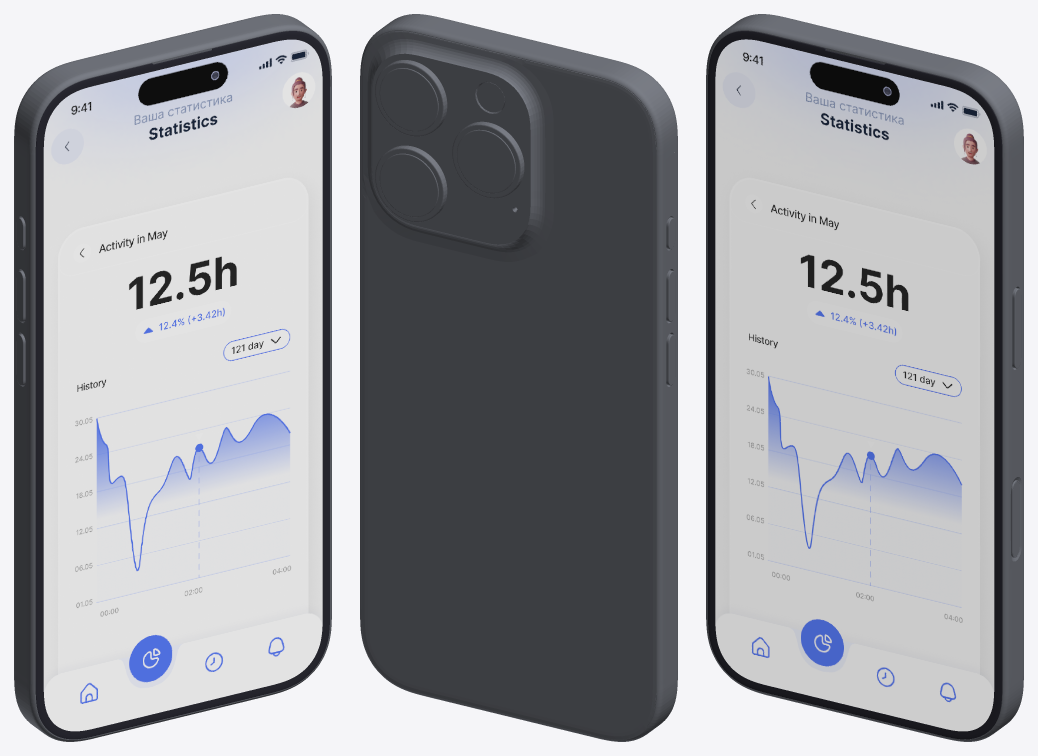
The model's file is iphone-statistics-v3.glb.
3 views of the same model, side by side, from view 1: azimuth 30°, elevation 25°; view 2: azimuth 150°, elevation 25°; view 3: azimuth 330°, elevation 25° (orthographic).
Parts seen in each view (by area): view 1: display, edge-a, edge-display, island-fill; view 2: back, edge-a, back-camera, back-camera-lente-2-a, back-camera-lente-1-b, back-camera-lente-3-a, back-camera-lente-3-d, back-camera-lente-1-a, back-camera-lente-2-d, back-camera-flash-a; view 3: display, edge-a, edge-display, island-fill, button-4.
Boxes of the visible parts, bbox=[...] form: display: bbox=[43, 39, 322, 731]; edge-a: bbox=[14, 14, 331, 741]; edge-display: bbox=[35, 31, 329, 739]; island-fill: bbox=[138, 64, 227, 107]; back: bbox=[362, 31, 656, 739]; edge-a: bbox=[360, 14, 677, 741]; back-camera: bbox=[372, 53, 530, 244]; back-camera-lente-2-a: bbox=[458, 132, 513, 191]; back-camera-lente-1-b: bbox=[381, 70, 436, 129]; back-camera-lente-3-a: bbox=[381, 156, 436, 215]; back-camera-lente-3-d: bbox=[375, 145, 447, 222]; back-camera-lente-1-a: bbox=[375, 60, 447, 136]; back-camera-lente-2-d: bbox=[452, 121, 524, 198]; back-camera-flash-a: bbox=[477, 82, 504, 112]; display: bbox=[715, 39, 994, 731]; edge-a: bbox=[706, 14, 1023, 741]; edge-display: bbox=[708, 31, 1002, 739]; island-fill: bbox=[810, 64, 899, 107]; button-4: bbox=[1012, 288, 1021, 368].
Bounding box in the file's own units: 7.17 × 14.92 × 1.21.
3 materials, 1 textured.
